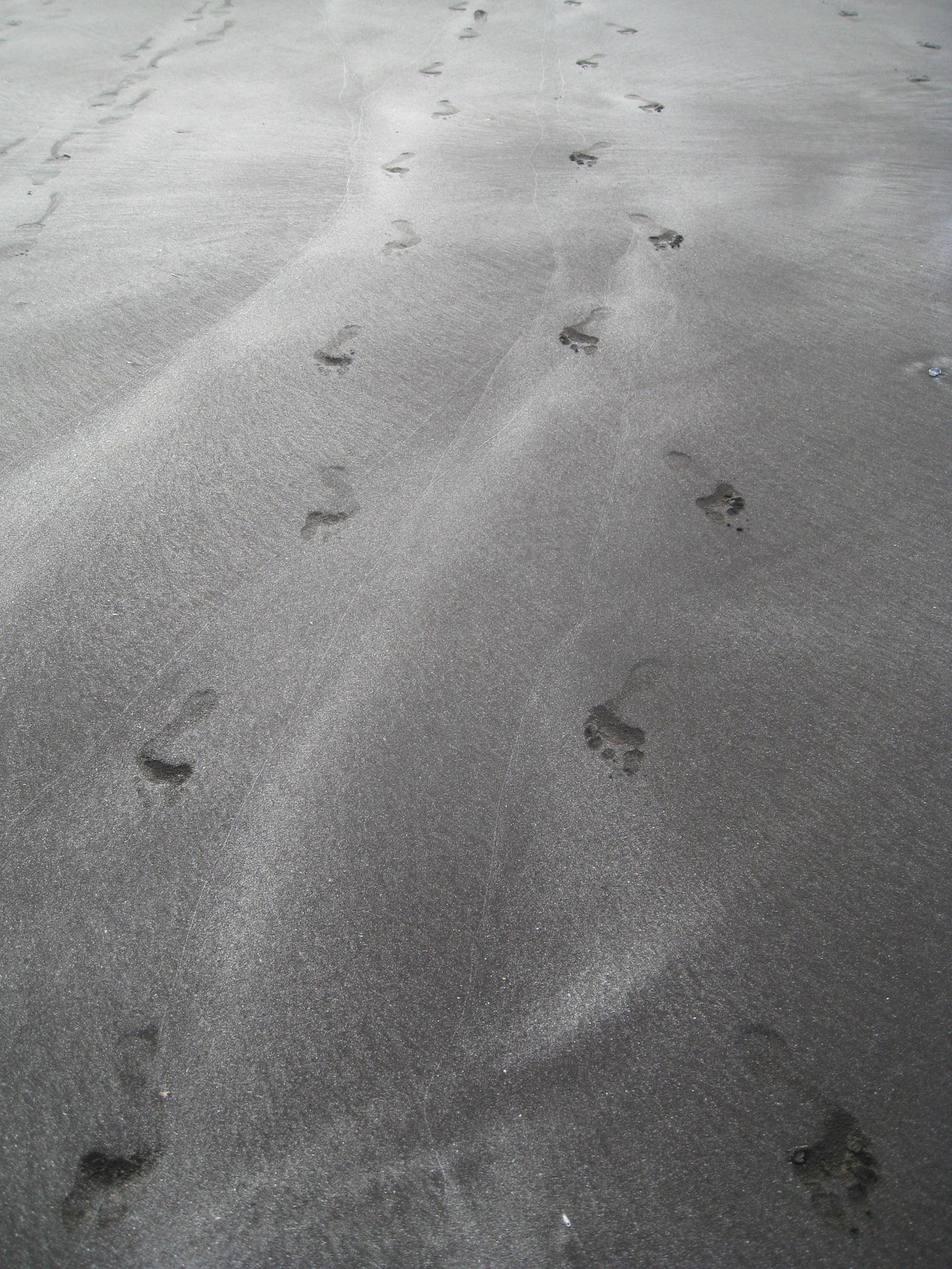human_footprint: (738, 1022, 879, 1237), (60, 1021, 167, 1229), (790, 1106, 879, 1236), (583, 658, 665, 775), (137, 688, 218, 785), (301, 465, 359, 541), (584, 704, 645, 774), (0, 192, 61, 258), (695, 482, 748, 531), (695, 483, 745, 531), (559, 308, 609, 355), (314, 324, 360, 373), (629, 213, 683, 250), (91, 72, 143, 108), (99, 89, 150, 124), (904, 355, 951, 387), (383, 219, 420, 254), (569, 142, 610, 167), (196, 19, 234, 44), (624, 92, 664, 113), (381, 152, 414, 176), (121, 37, 154, 60), (0, 136, 26, 158), (432, 98, 459, 118), (576, 53, 605, 68), (606, 22, 637, 34), (419, 61, 444, 75), (918, 41, 941, 50), (838, 9, 858, 19)
